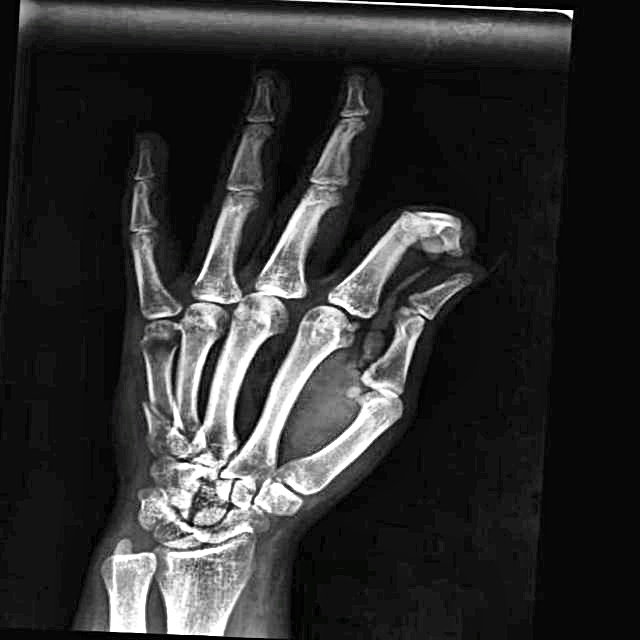Comminuted: (389, 190, 478, 263)
Oblique Displaced: (125, 386, 188, 457)
